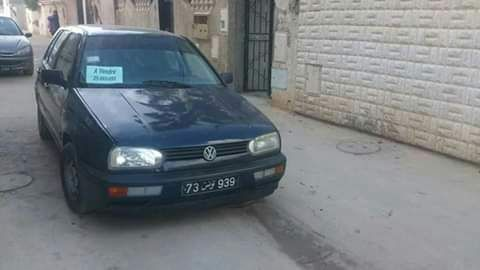LP: (179, 176, 240, 198)
